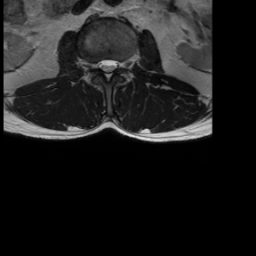CCS_normal: (104, 55, 111, 83)
LFS_normal: (119, 56, 126, 73)
LLS_normal: (111, 55, 119, 76)
RFS_stenosis: (90, 56, 98, 73)
RLS_normal: (98, 55, 104, 75)
